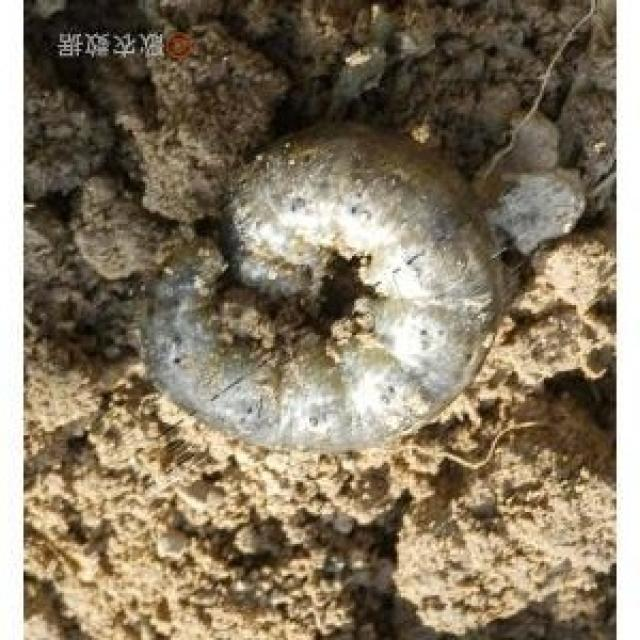black cutworm: (119, 120, 497, 459)
